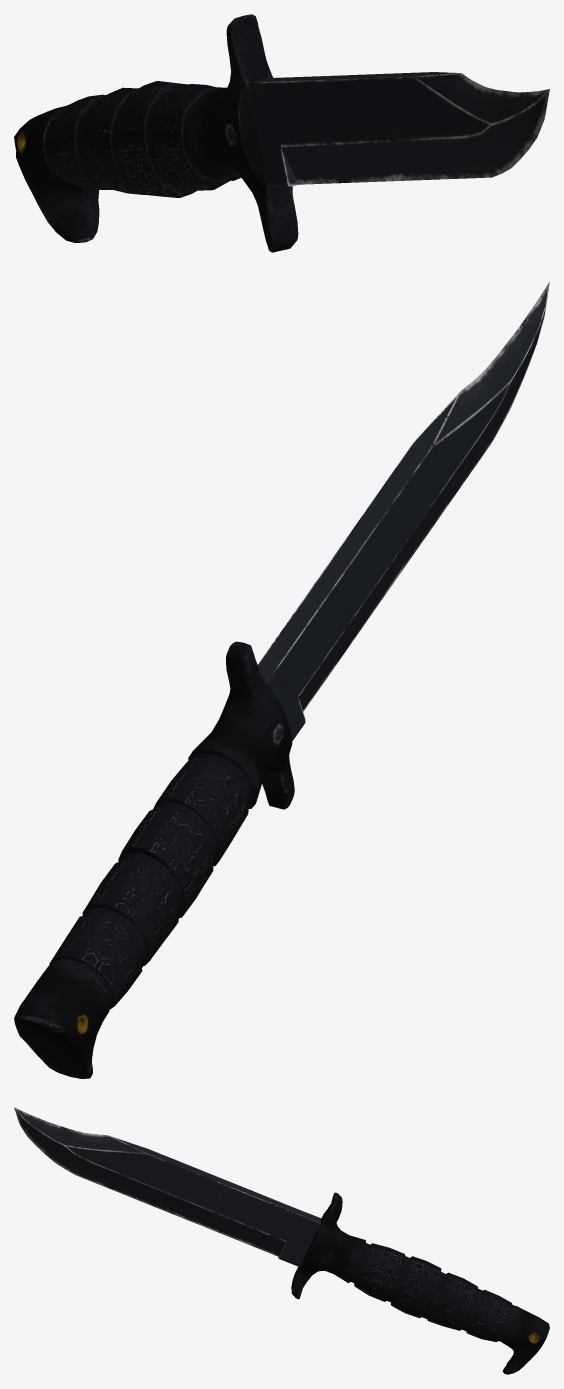
Rendered from knife-transformed.glb.
3 renders of one model, top to bottom at view 1: azimuth 30°, elevation 25°; view 2: azimuth 150°, elevation 25°; view 3: azimuth 270°, elevation 25°, orthographic. The views are drawn at different scales.
Visible parts, largest first — view 1: defaultMaterial; view 2: defaultMaterial; view 3: defaultMaterial.
Boxes of the visible parts, x1=… form: defaultMaterial: x1=14, y1=14, x2=549, y2=252; defaultMaterial: x1=14, y1=281, x2=549, y2=1078; defaultMaterial: x1=14, y1=1107, x2=549, y2=1374.
Size of the model in its own units: 0.04 by 0.2417 by 0.4532.
1 material, 1 textured.
